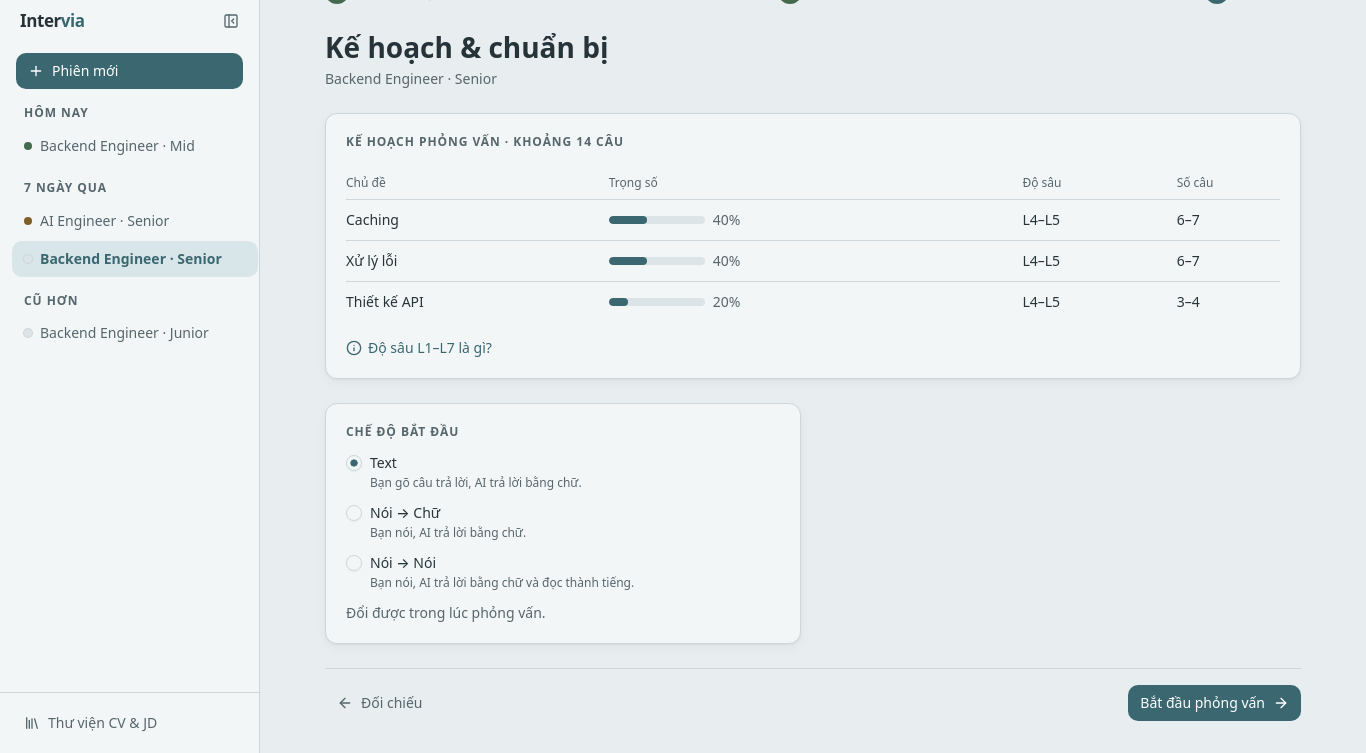
Test: SessionPlanPage (UI-5.4) › stays on the page with the reason when start is refused
The width and height of the screenshot is (1366, 753).
(page scrolled)
Click the button "Bắt đầu phỏng vấn": (1215, 703) [1128,685,1301,721]
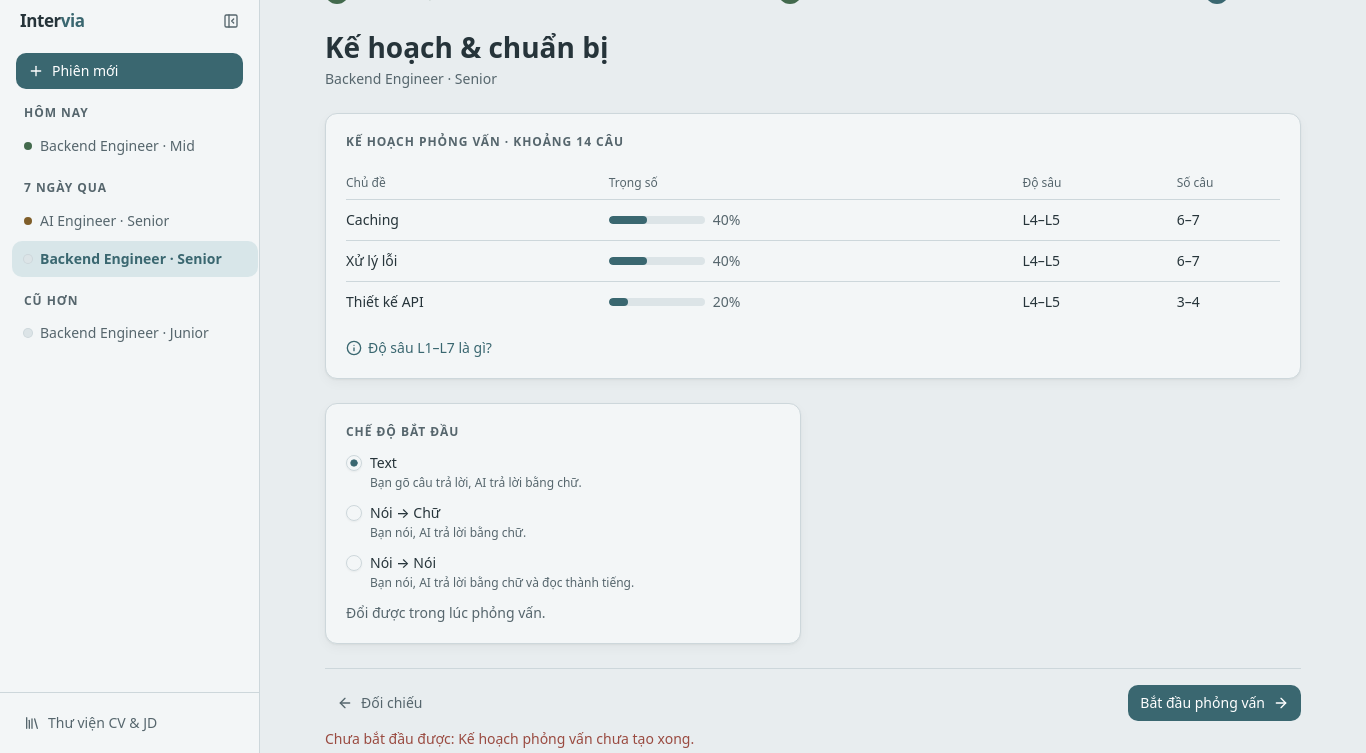
Result: the message shows "Kế hoạch phỏng vấn chưa tạo xong" at [458,729,694,748]
